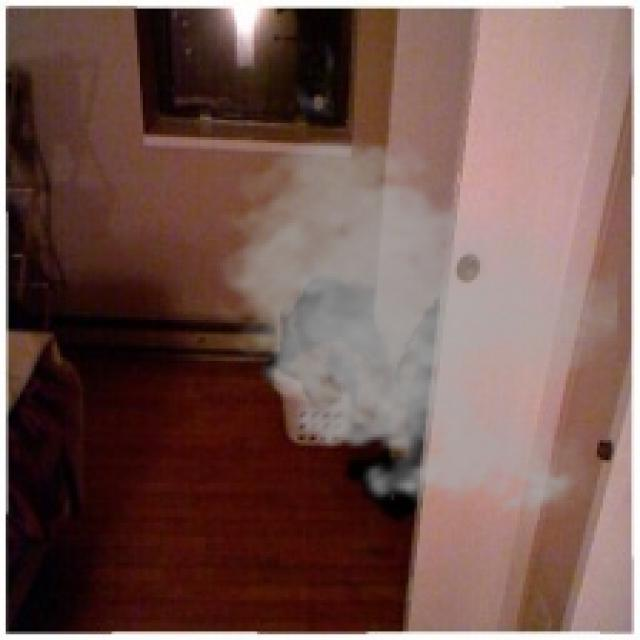smoke: (206, 128, 623, 526)
